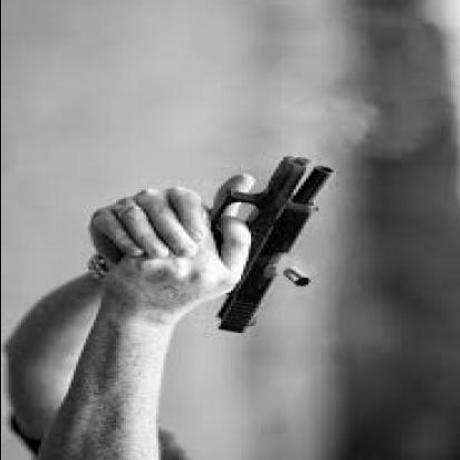1: (0, 171, 254, 460)
weapon: (115, 143, 332, 335)
